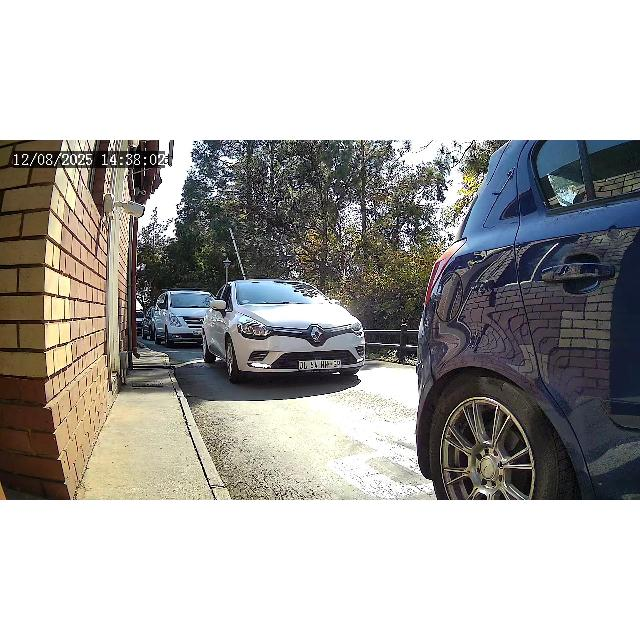car: (201, 277, 367, 383), (152, 288, 214, 348)
plate: (298, 358, 342, 372)
